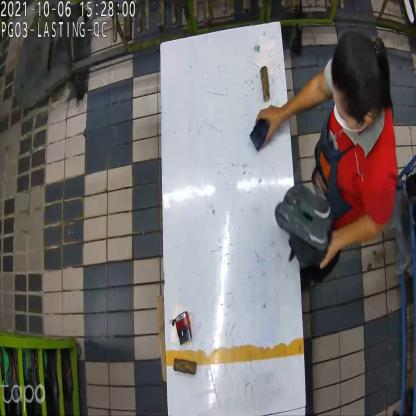shoes: (275, 182, 335, 274)
stamp: (173, 312, 195, 344), (250, 117, 269, 152)
